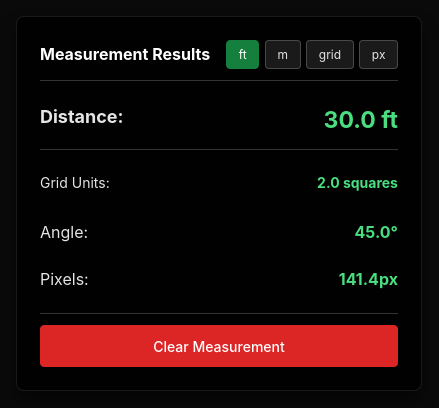
Test: MeasurementTool › switches unit to grid squares
Click the button "grid" at (330, 54), box [306,40,354,68]
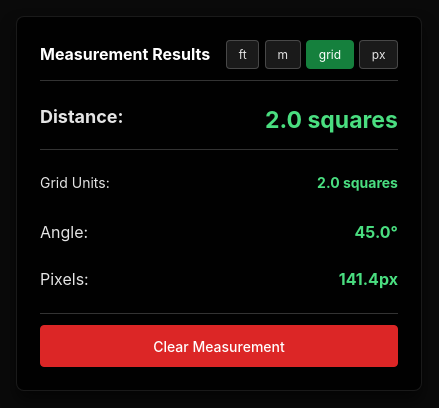
Expected: the text "2.0 squares" next to "Distance:" is shown, [265,106,398,134]
